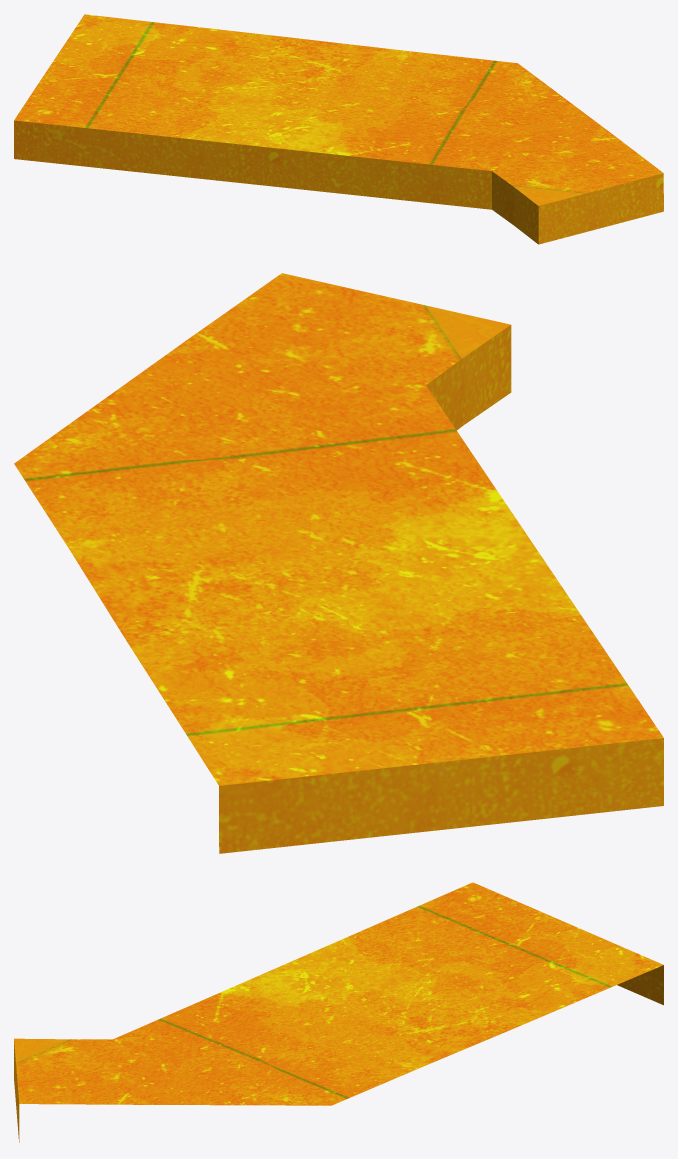
File: FacilityPlatform_04_SM_Low.fbx
3 views of the same model, one above another, from view 1: azimuth 30°, elevation 25°; view 2: azimuth 150°, elevation 25°; view 3: azimuth 270°, elevation 25° (orthographic). The views are drawn at different scales.
Parts seen in each view (by area): view 1: facility_platform_04_geo; view 2: facility_platform_04_geo; view 3: facility_platform_04_geo.
Boxes of the visible parts, x1=… form: facility_platform_04_geo: x1=14, y1=14, x2=663, y2=244; facility_platform_04_geo: x1=14, y1=273, x2=663, y2=853; facility_platform_04_geo: x1=14, y1=882, x2=663, y2=1142.
Bounding box in the file's own units: 1178 × 99.5 × 1449.
Materials: 2 (2 with a texture image).
